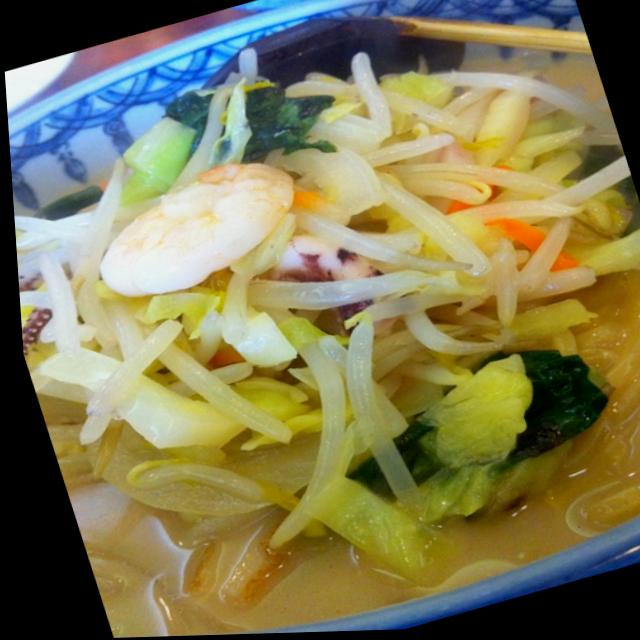熟制海鲜: (2, 28, 541, 531)
